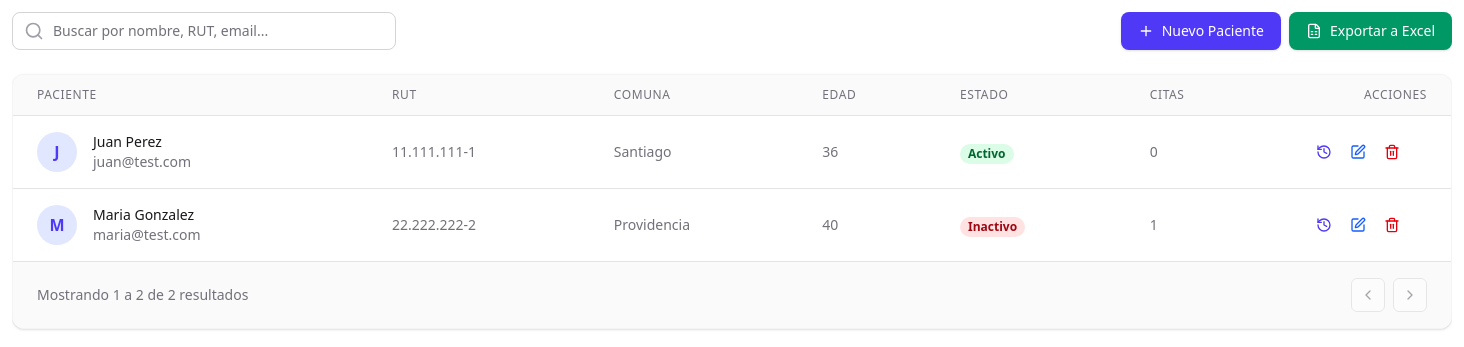
it: PatientsTable Component › filters patients by name
In the field with placeholder "Buscar por nombre, RUT, email...": {"x": 204, "y": 31} x1=12 y1=12 x2=396 y2=50, type "Maria"
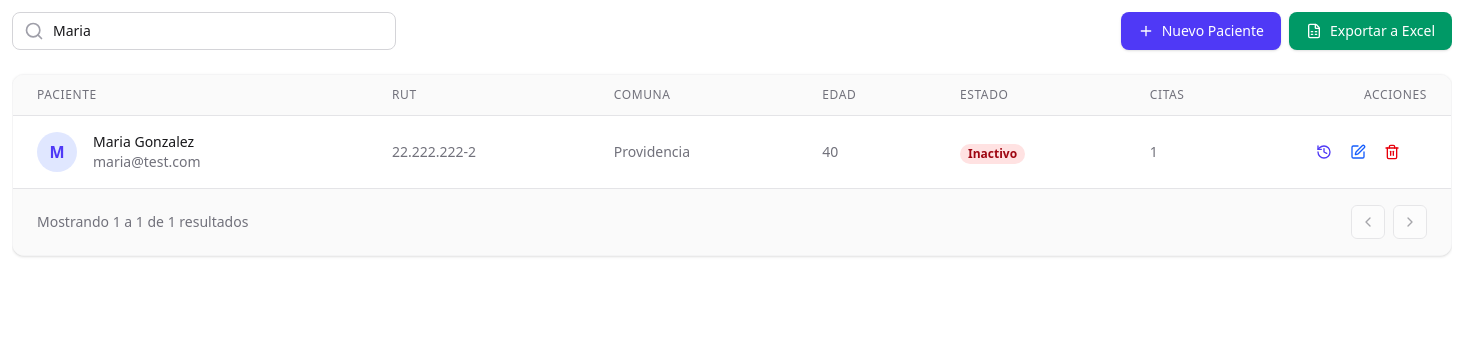
Expected: the text "Maria Gonzalez" is shown, x1=93 y1=132 x2=200 y2=152
Expected: the text "Juan Perez" is gone
